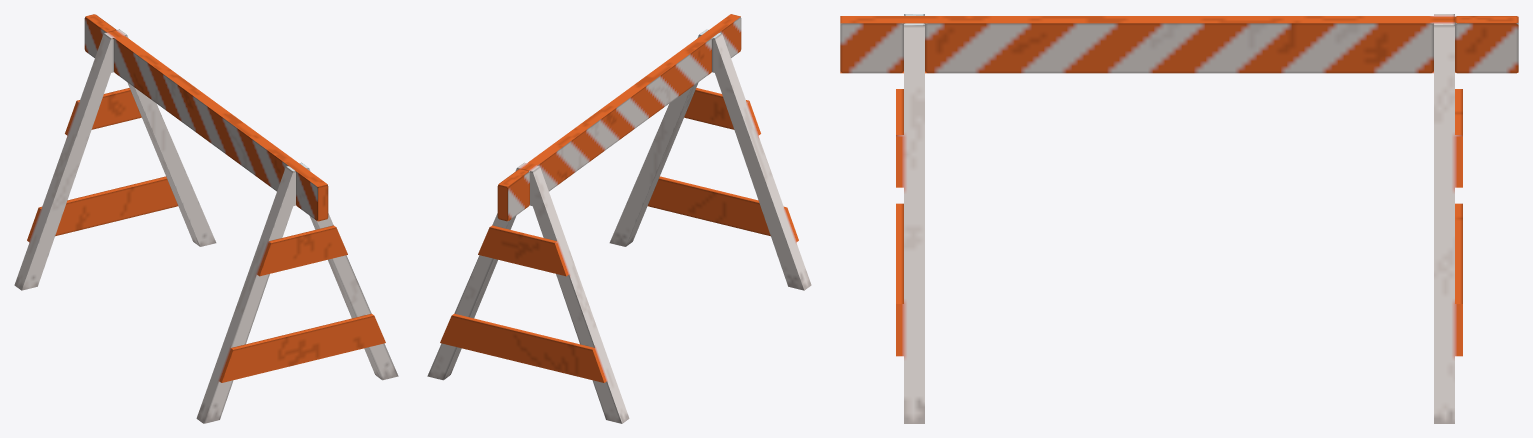
The model's file is Con-Barrier.fbx.
The picture shows the model from 3 angles, left to right: view 1: azimuth 30°, elevation 25°; view 2: azimuth 150°, elevation 25°; view 3: azimuth 270°, elevation 25°; orthographic projection. The views are drawn at different scales.
Parts seen in each view (by area): view 1: Con-Barrier; view 2: Con-Barrier; view 3: Con-Barrier.
Boxes of the visible parts, x1,y1,x2,y2 form: Con-Barrier: (14,14,398,423); Con-Barrier: (427,14,811,423); Con-Barrier: (840,14,1518,423).
Size of the model in its own units: 178 by 201 by 369.
1 material, 1 textured.
